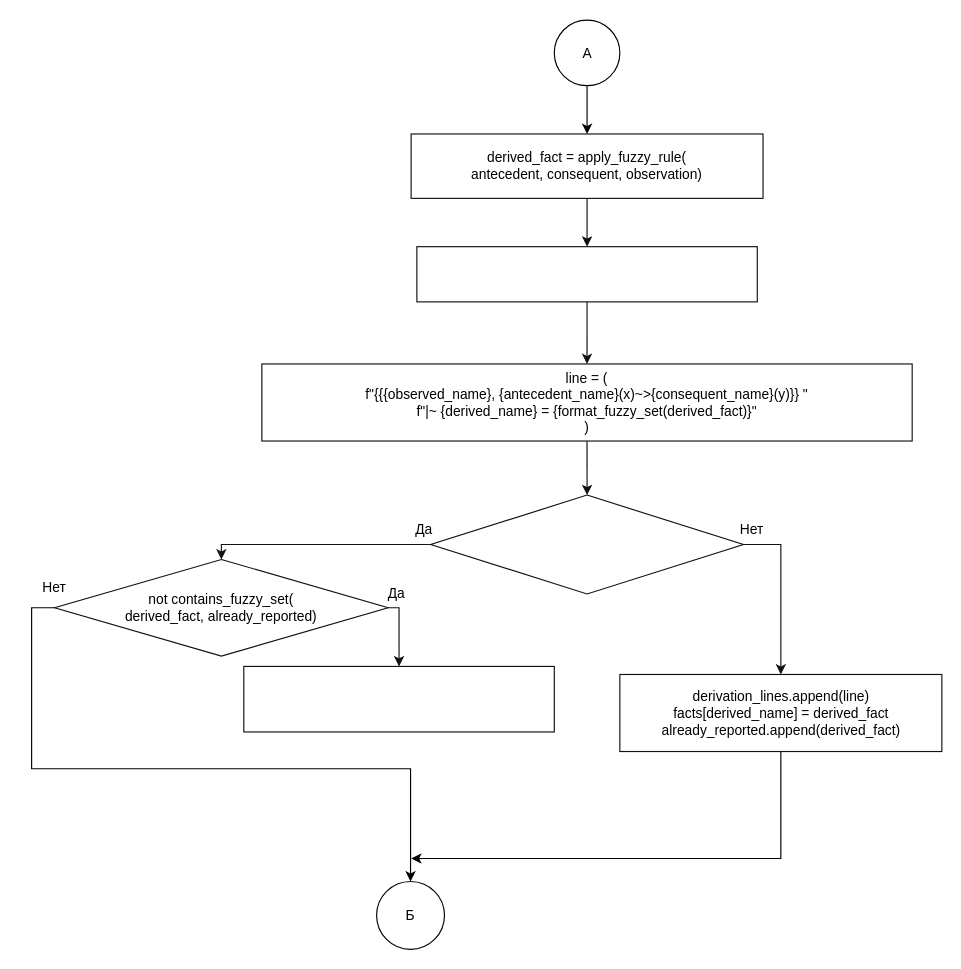
Image size: 961x969. Some labels were removed from this diagram. The centre of each missing label's shape, as x and y in pixels:
contains_fuzzy_set( derived_fact, facts.values()): point (586, 544)
derivation_lines.append(line) already_reported.append(derived_fact): point (398, 698)
derived_name = f"_{len(derivation_lines) + 1}": point (586, 274)
